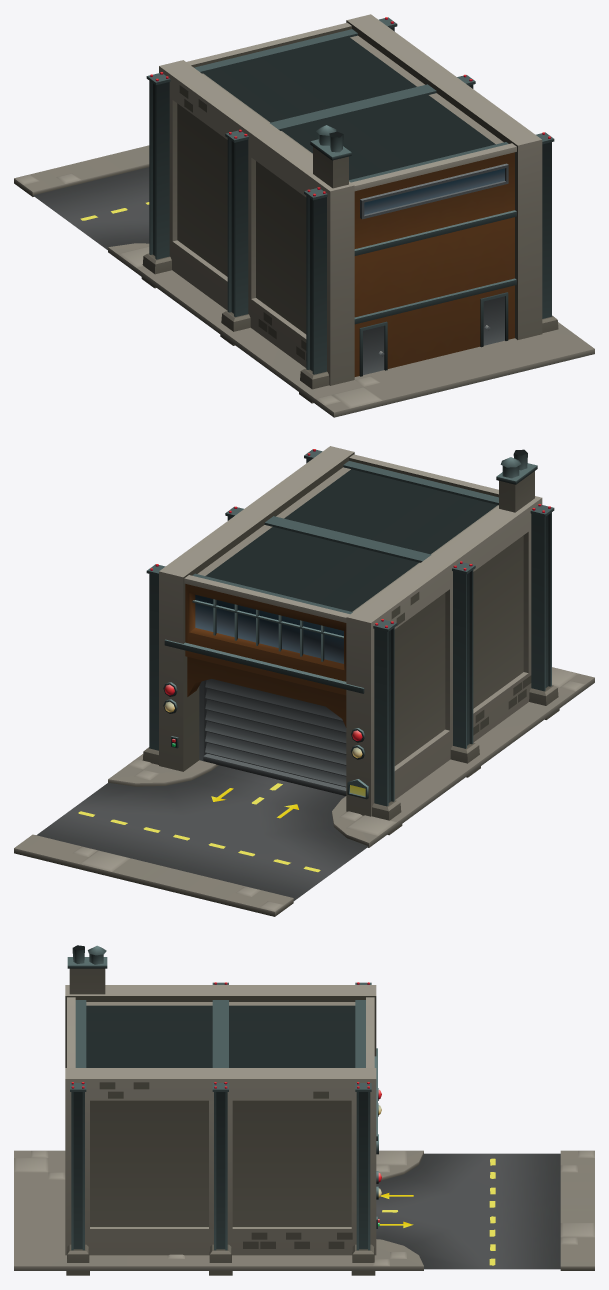
The model's file is Warehouse_1A.fbx.
3 views of the same model, one above another, from view 1: azimuth 30°, elevation 25°; view 2: azimuth 150°, elevation 25°; view 3: azimuth 270°, elevation 25° (orthographic). The views are drawn at different scales.
Parts seen in each view (by area): view 1: Warehouse_1A, Warehouse_1A_Base; view 2: Warehouse_1A, Warehouse_1A_Base, Warehouse_Door_1A; view 3: Warehouse_1A, Warehouse_1A_Base.
Part boxes in pixels (left/top/right/bottom): Warehouse_1A: left=141, top=14, right=558, bottom=403; Warehouse_1A_Base: left=14, top=145, right=594, bottom=417; Warehouse_1A: left=142, top=446, right=559, bottom=835; Warehouse_1A_Base: left=14, top=667, right=594, bottom=916; Warehouse_Door_1A: left=203, top=679, right=346, bottom=795; Warehouse_1A: left=65, top=945, right=381, bottom=1275; Warehouse_1A_Base: left=14, top=1150, right=594, bottom=1270.
Size of the model in its own units: 16 by 15.14 by 34.
